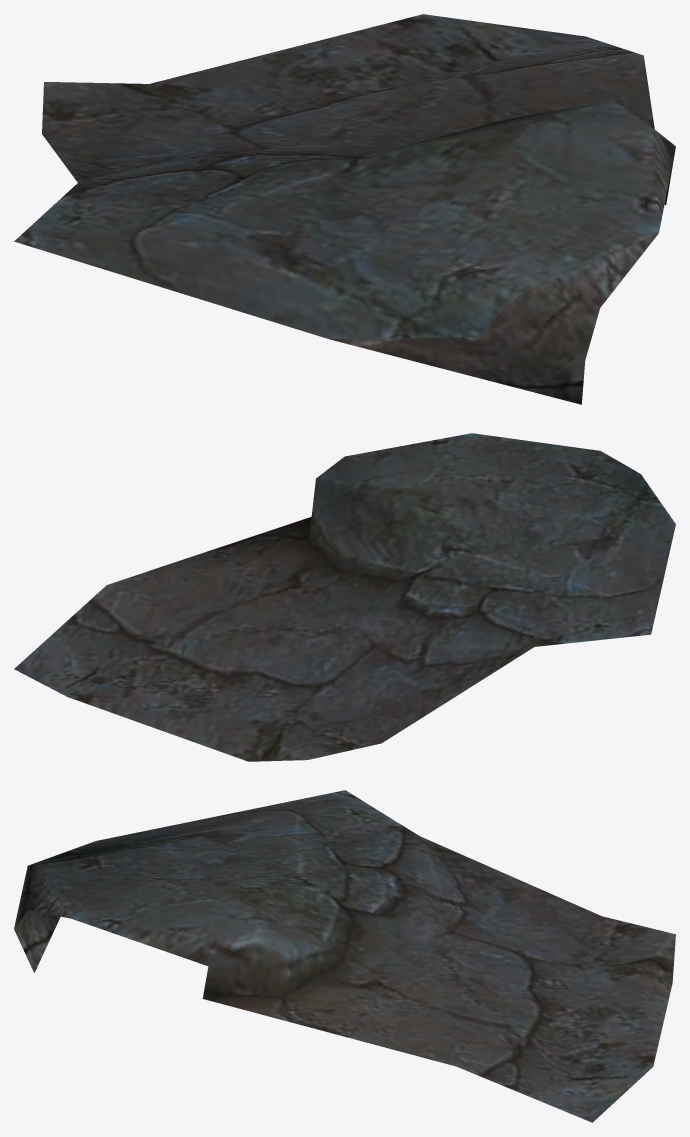
The model's file is S_Rock_Yellow033_3.FBX.
The picture shows the model from 3 angles, top to bottom: view 1: azimuth 30°, elevation 25°; view 2: azimuth 150°, elevation 25°; view 3: azimuth 270°, elevation 25°; orthographic projection. The views are drawn at different scales.
Parts seen in each view (by area): view 1: S_Rock_Yellow033_3; view 2: S_Rock_Yellow033_3; view 3: S_Rock_Yellow033_3.
Boxes of the visible parts, bbox=[...] form: S_Rock_Yellow033_3: bbox=[14, 14, 675, 404]; S_Rock_Yellow033_3: bbox=[14, 433, 675, 761]; S_Rock_Yellow033_3: bbox=[14, 790, 675, 1122].
Bounding box in the file's own units: 239 × 259 × 48.44.
